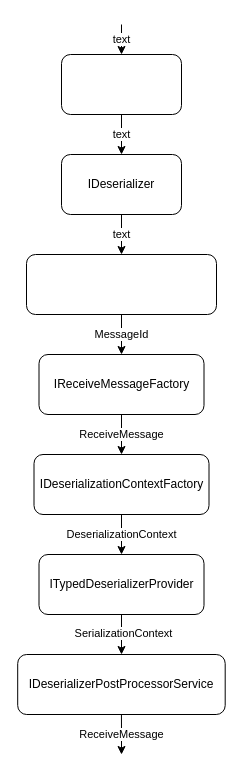
The diagram is 243 pixels wide and 780 high, and some of its shapes have lost their labels. Each missing label, with the box of its shape:
IMessageIdProvider: (26, 254, 216, 314)
ITextSerializer: (60, 54, 182, 114)
